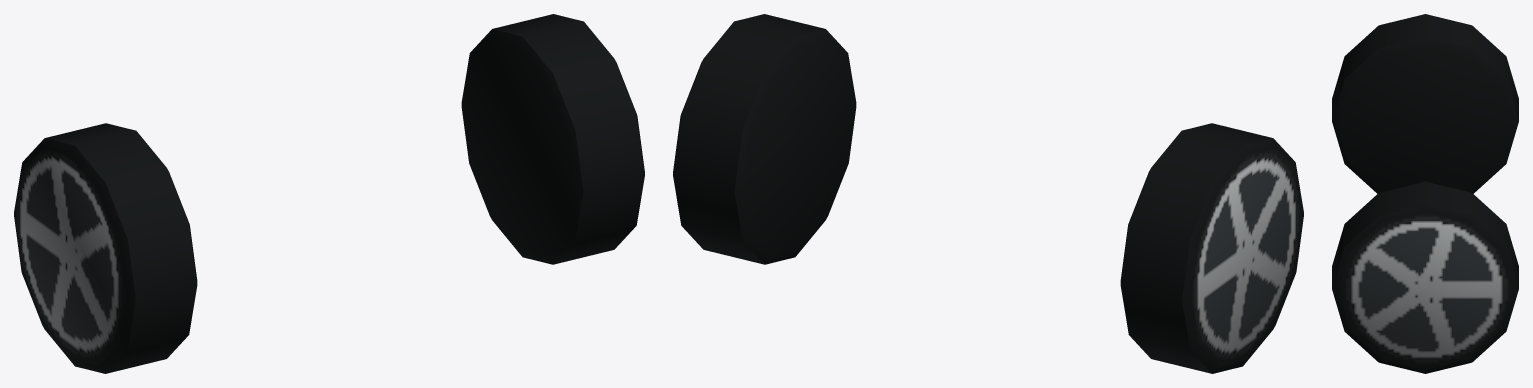
The model's file is flatsix_turbo_96_wheels_f.obj.
The picture shows the model from 3 angles, left to right: view 1: azimuth 30°, elevation 25°; view 2: azimuth 150°, elevation 25°; view 3: azimuth 270°, elevation 25°; orthographic projection. The views are drawn at different scales.
Visible parts, largest first — view 1: flatsix_turbo_96_wheels_f; view 2: flatsix_turbo_96_wheels_f; view 3: flatsix_turbo_96_wheels_f.
Part boxes in pixels (x1=…): flatsix_turbo_96_wheels_f: x1=14, y1=14, x2=644, y2=373; flatsix_turbo_96_wheels_f: x1=673, y1=14, x2=1303, y2=373; flatsix_turbo_96_wheels_f: x1=1332, y1=14, x2=1518, y2=373.
Bounding box in the file's own units: 1.68 × 0.6848 × 0.6848.
1 material, 1 textured.
